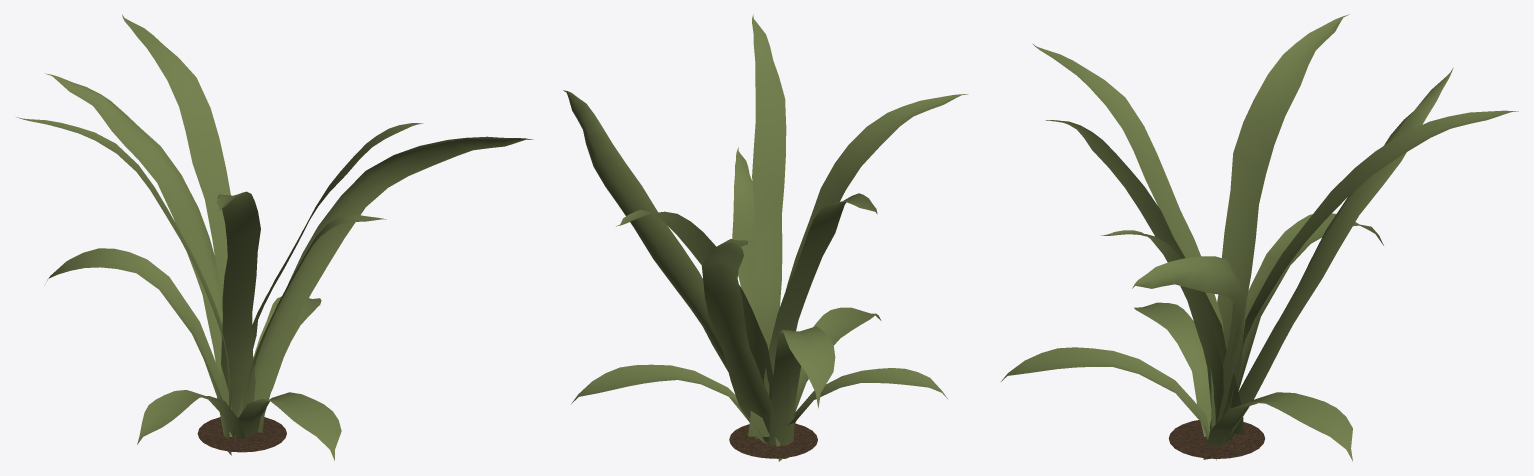
File: HousePlant6.fbx
3 views of the same model, side by side, from view 1: azimuth 30°, elevation 25°; view 2: azimuth 150°, elevation 25°; view 3: azimuth 270°, elevation 25° (orthographic). The views are drawn at different scales.
Parts seen in each view (by area): view 1: Cube.009; view 2: Cube.009; view 3: Cube.009.
Boxes of the visible parts, x1=… form: Cube.009: x1=16, y1=14, x2=533, y2=460; Cube.009: x1=563, y1=14, x2=968, y2=461; Cube.009: x1=1001, y1=14, x2=1518, y2=461.
Bounding box in the file's own units: 537 × 442 × 536.
